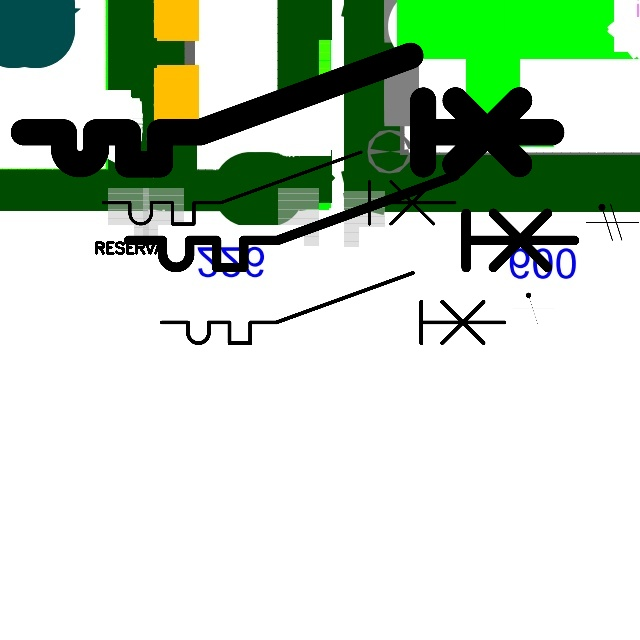interruptor_termomagnetico: (10, 42, 565, 178), (117, 164, 586, 279), (94, 143, 463, 233), (153, 264, 514, 352)
